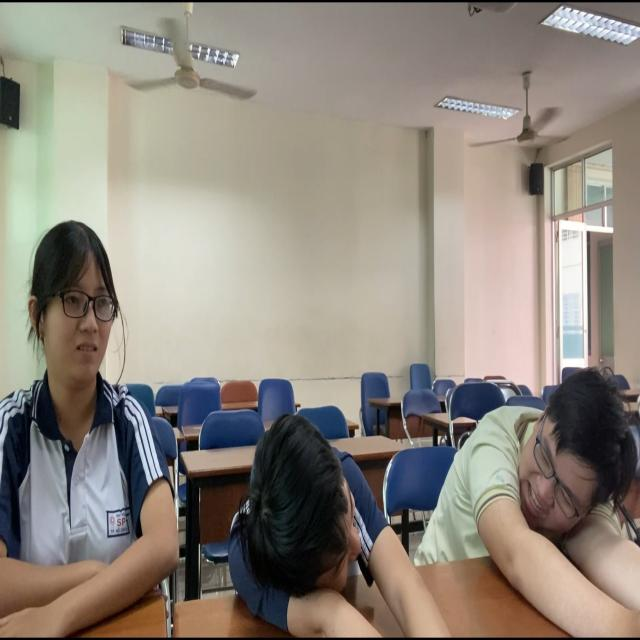sleep: (212, 404, 450, 640), (441, 363, 640, 640)
